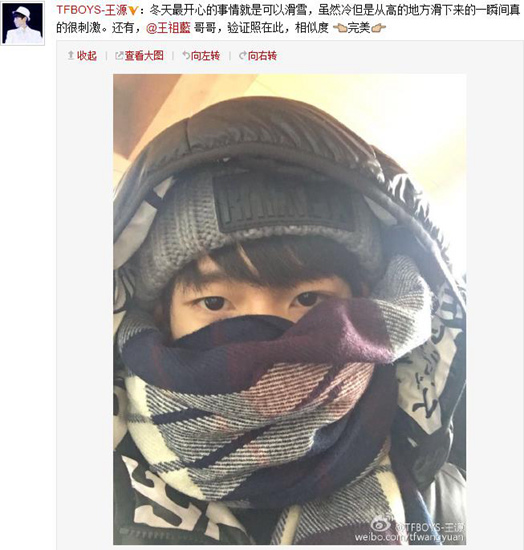face_mask: (158, 209, 357, 457)
